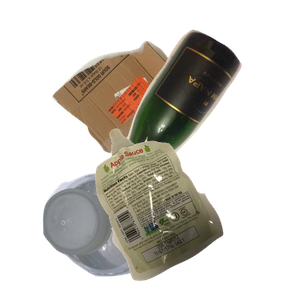cardboard: (50, 38, 233, 184)
glass: (87, 27, 300, 207)
plastic: (40, 170, 187, 300)
trash: (93, 126, 300, 300)
